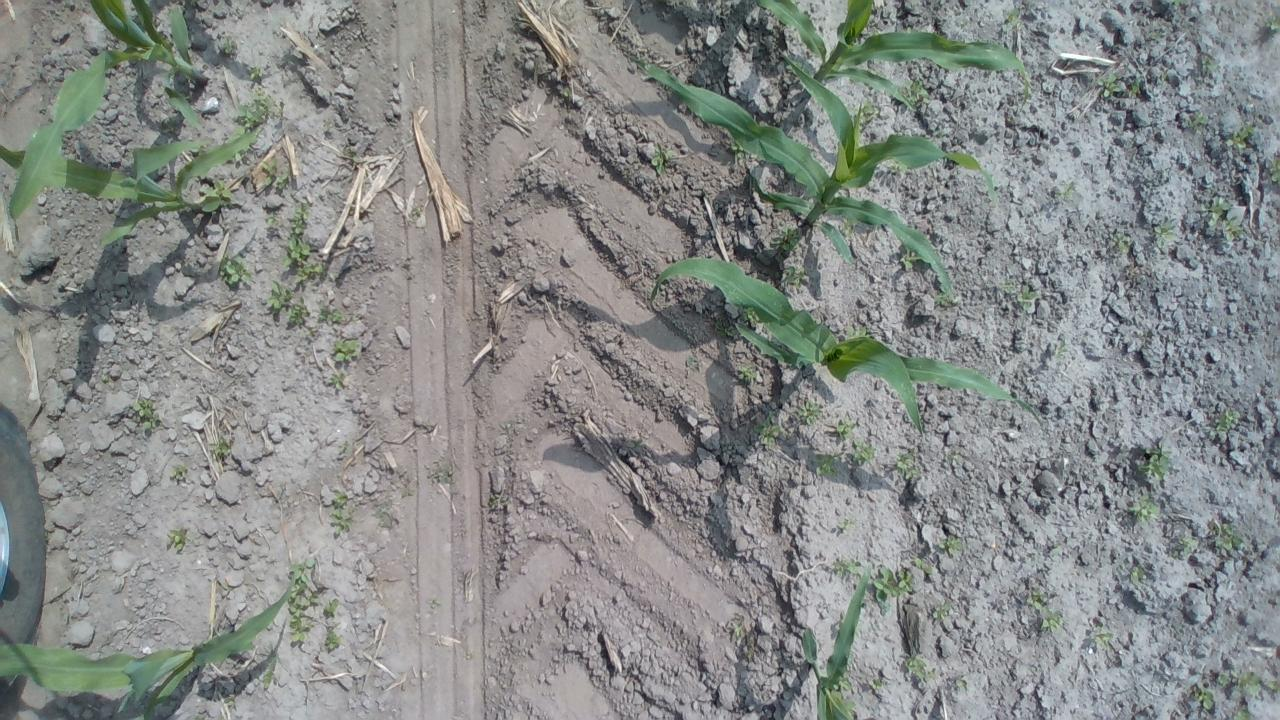Maize: (636, 59, 1004, 314), (637, 254, 1030, 435), (0, 577, 306, 720), (11, 0, 208, 222), (0, 116, 286, 261), (714, 0, 1041, 116), (800, 566, 881, 720)
Weeds: (284, 557, 318, 652), (866, 563, 920, 613), (1198, 194, 1248, 244), (229, 92, 276, 144), (1137, 442, 1177, 488), (217, 254, 256, 291), (199, 178, 234, 218), (252, 156, 293, 190), (131, 393, 164, 435), (646, 138, 680, 178), (1218, 666, 1266, 694), (1206, 404, 1242, 441), (263, 276, 296, 316), (1210, 520, 1244, 557), (1000, 278, 1038, 310), (258, 652, 286, 695), (1150, 214, 1184, 249), (162, 520, 195, 556), (1126, 495, 1162, 527), (330, 488, 354, 536), (779, 264, 816, 294), (329, 338, 367, 366), (280, 235, 310, 270), (905, 654, 935, 688), (1194, 50, 1224, 84), (1220, 122, 1254, 152), (211, 431, 239, 466), (477, 485, 513, 512), (1096, 70, 1126, 102), (756, 418, 786, 450), (734, 362, 766, 392), (935, 531, 969, 559), (1084, 625, 1115, 655), (902, 76, 933, 106), (794, 397, 824, 428), (1024, 584, 1053, 616), (372, 494, 397, 530), (847, 438, 877, 468), (1124, 566, 1152, 598), (1188, 686, 1222, 712), (1172, 530, 1206, 556), (893, 450, 919, 484), (286, 299, 312, 332), (831, 555, 861, 583), (812, 448, 843, 475), (1002, 9, 1029, 39), (913, 552, 944, 578), (288, 205, 314, 236), (316, 301, 344, 329), (294, 262, 327, 285), (1049, 176, 1078, 202), (1186, 103, 1212, 132), (712, 318, 739, 344), (1109, 230, 1136, 256), (929, 596, 958, 620), (324, 370, 349, 397), (168, 462, 195, 487), (779, 226, 804, 252), (424, 590, 451, 614), (1046, 330, 1066, 362), (834, 417, 858, 443), (429, 461, 456, 484), (899, 245, 920, 274), (866, 671, 892, 694), (322, 628, 344, 655), (319, 600, 342, 625), (952, 671, 974, 696), (1266, 150, 1280, 189), (1128, 72, 1146, 100), (263, 210, 284, 234), (218, 691, 242, 712), (1262, 14, 1280, 41), (1042, 610, 1064, 632), (395, 479, 418, 500), (220, 35, 240, 58), (858, 102, 882, 121), (680, 350, 700, 371), (246, 66, 266, 86), (837, 514, 856, 535), (728, 618, 746, 639), (492, 418, 518, 432), (943, 448, 962, 466), (1229, 704, 1253, 718), (839, 219, 852, 240), (560, 81, 572, 102), (935, 292, 949, 310), (348, 146, 361, 165)
